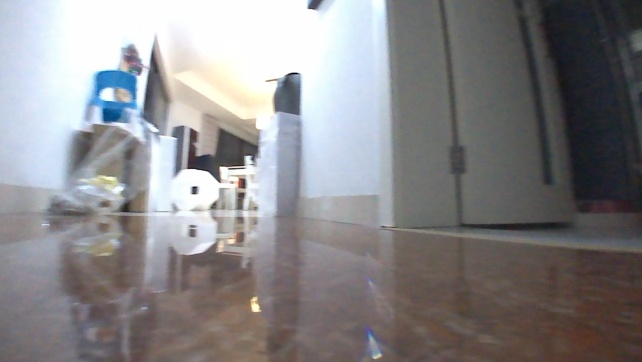door_anno: (376, 0, 578, 241)
